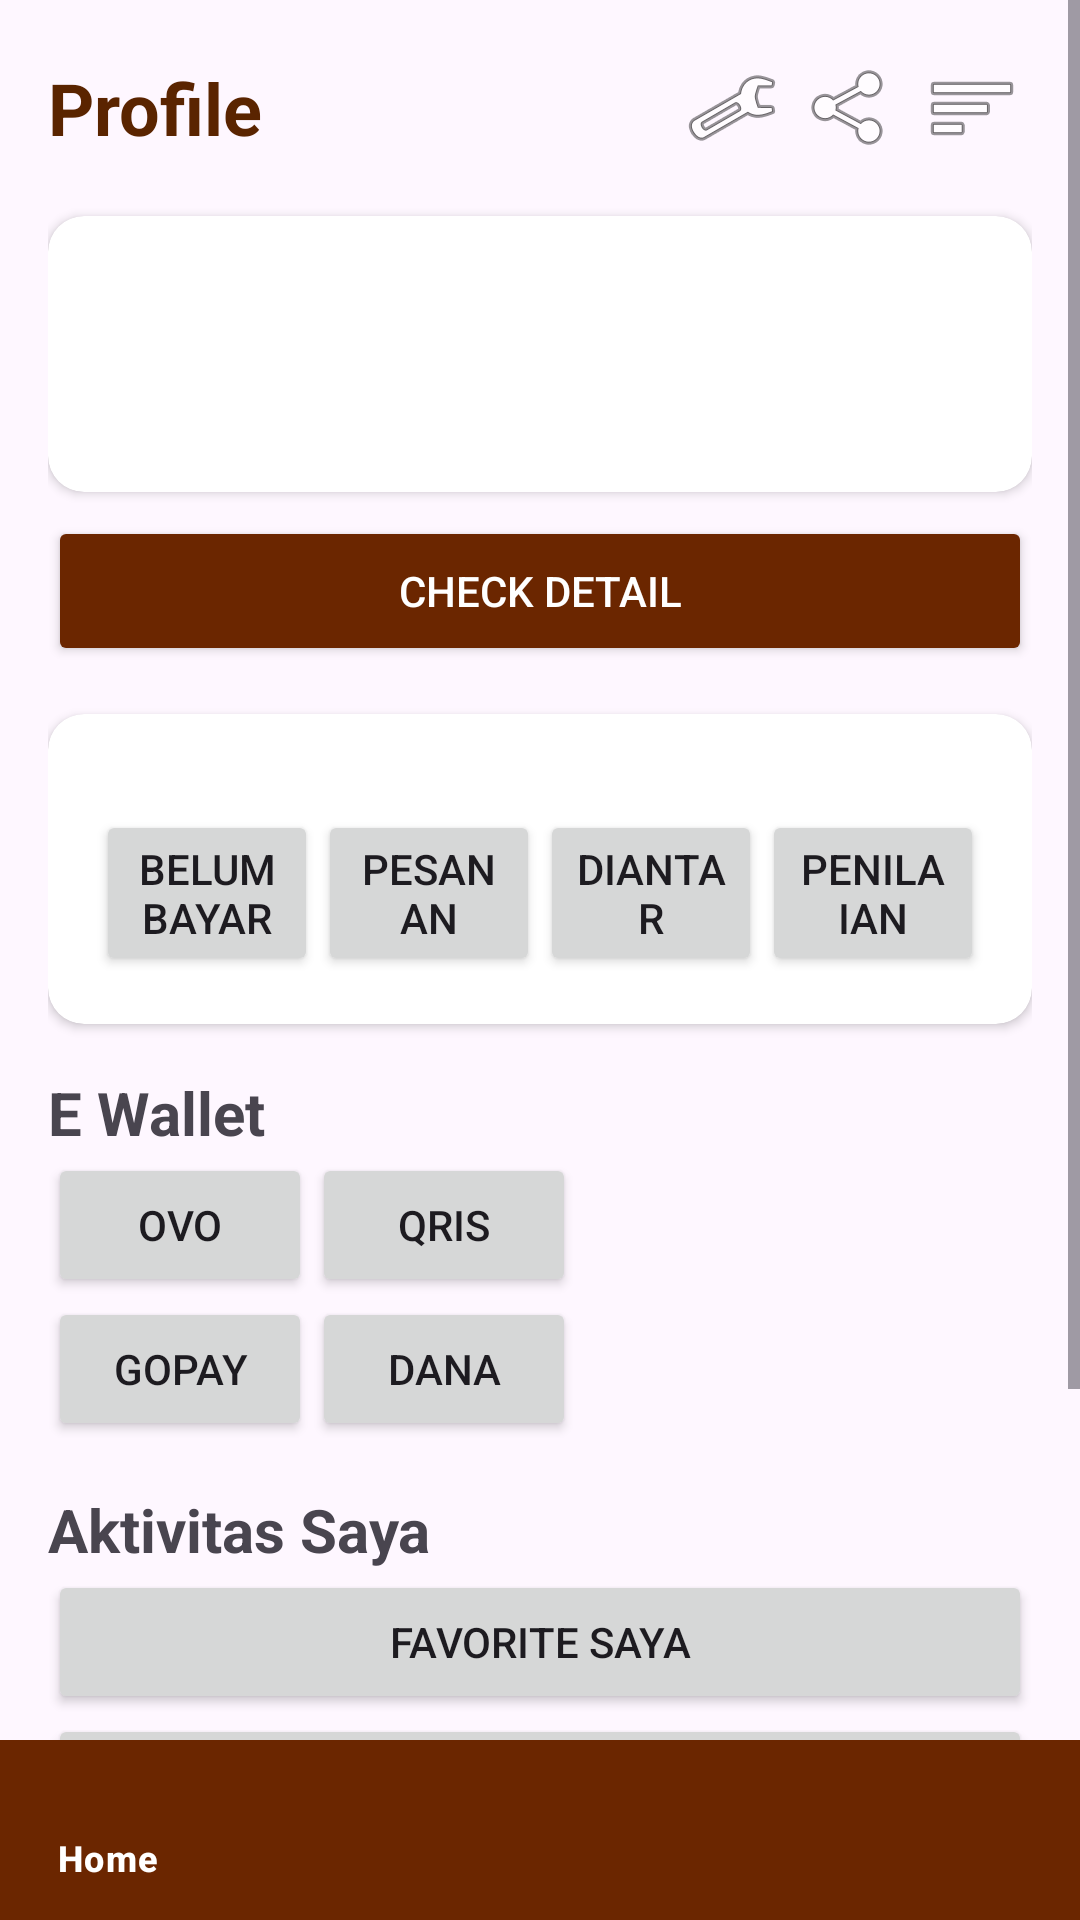

Icons on this 1080px×1920px Android screen, each with the point to tap as [x,y]:
manage: [732,108]
share: [847,107]
sort by size: [972,108]
